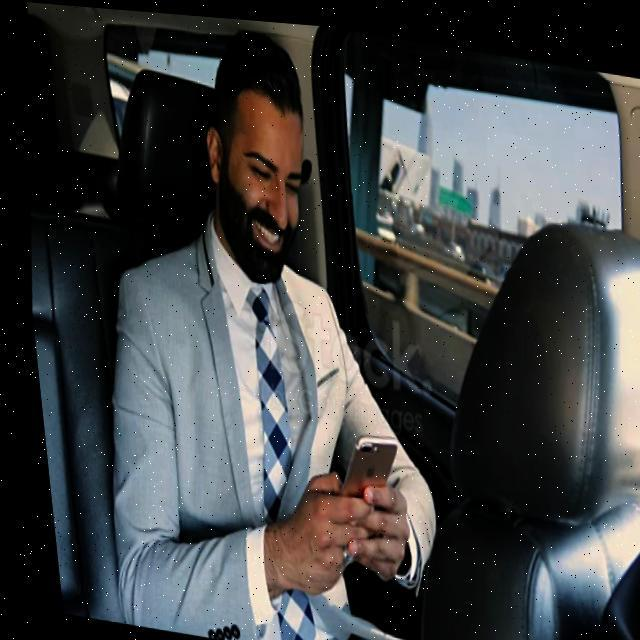PhoneCall: (320, 422, 394, 512)
